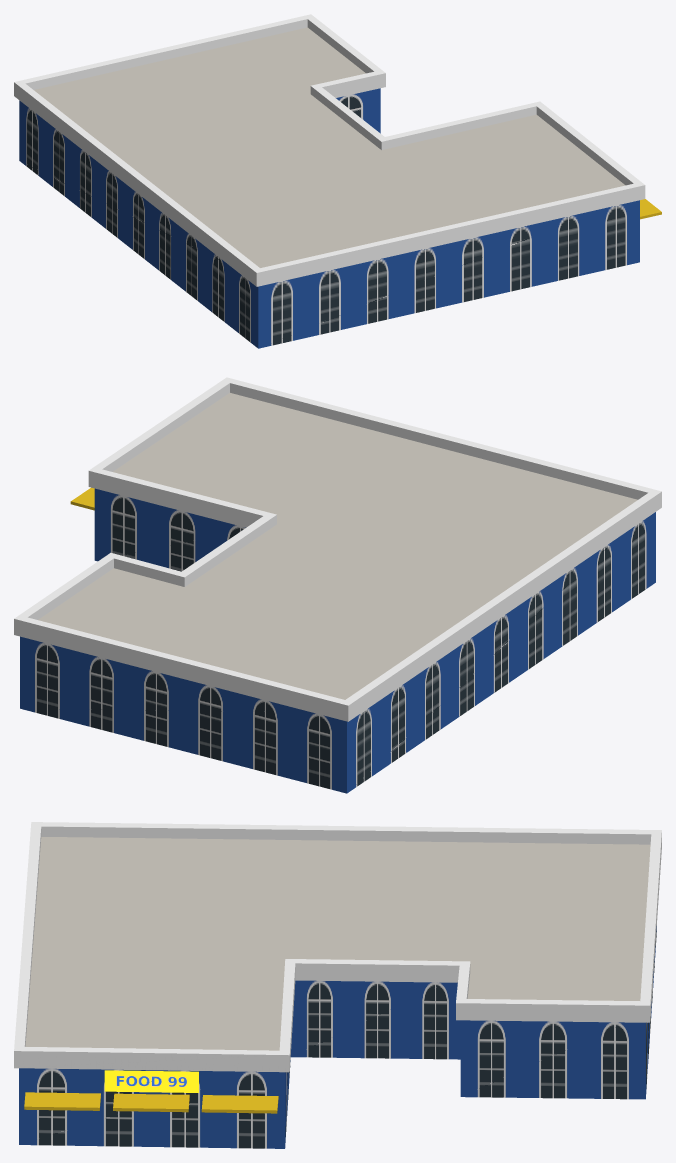
The model's file is food99.glb.
3 views of the same model, one above another, from view 1: azimuth 30°, elevation 25°; view 2: azimuth 150°, elevation 25°; view 3: azimuth 270°, elevation 25° (orthographic). The views are drawn at different scales.
Visible parts, largest first — view 1: food99_lod0; view 2: food99_lod0; view 3: food99_lod0.
Boxes of the visible parts, x1,y1,x2,y2 form: food99_lod0: (14, 14, 661, 348); food99_lod0: (14, 377, 661, 793); food99_lod0: (14, 822, 661, 1148).
Size of what is drawn, in the model's own units: 30.75 by 5.6 by 34.31.
Materials: 5 (2 with a texture image).
